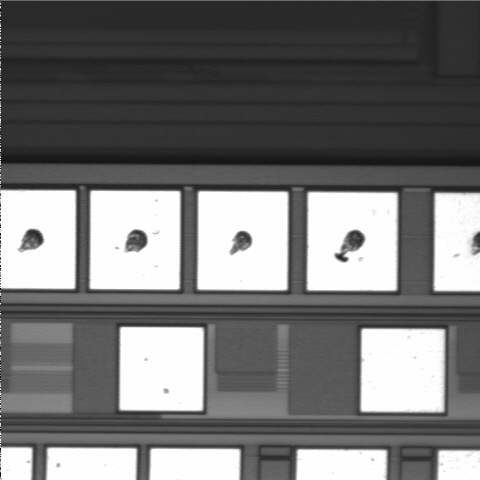pad: (90, 191, 180, 290), (198, 191, 288, 290), (307, 192, 397, 291), (120, 327, 204, 411), (361, 329, 445, 412)
